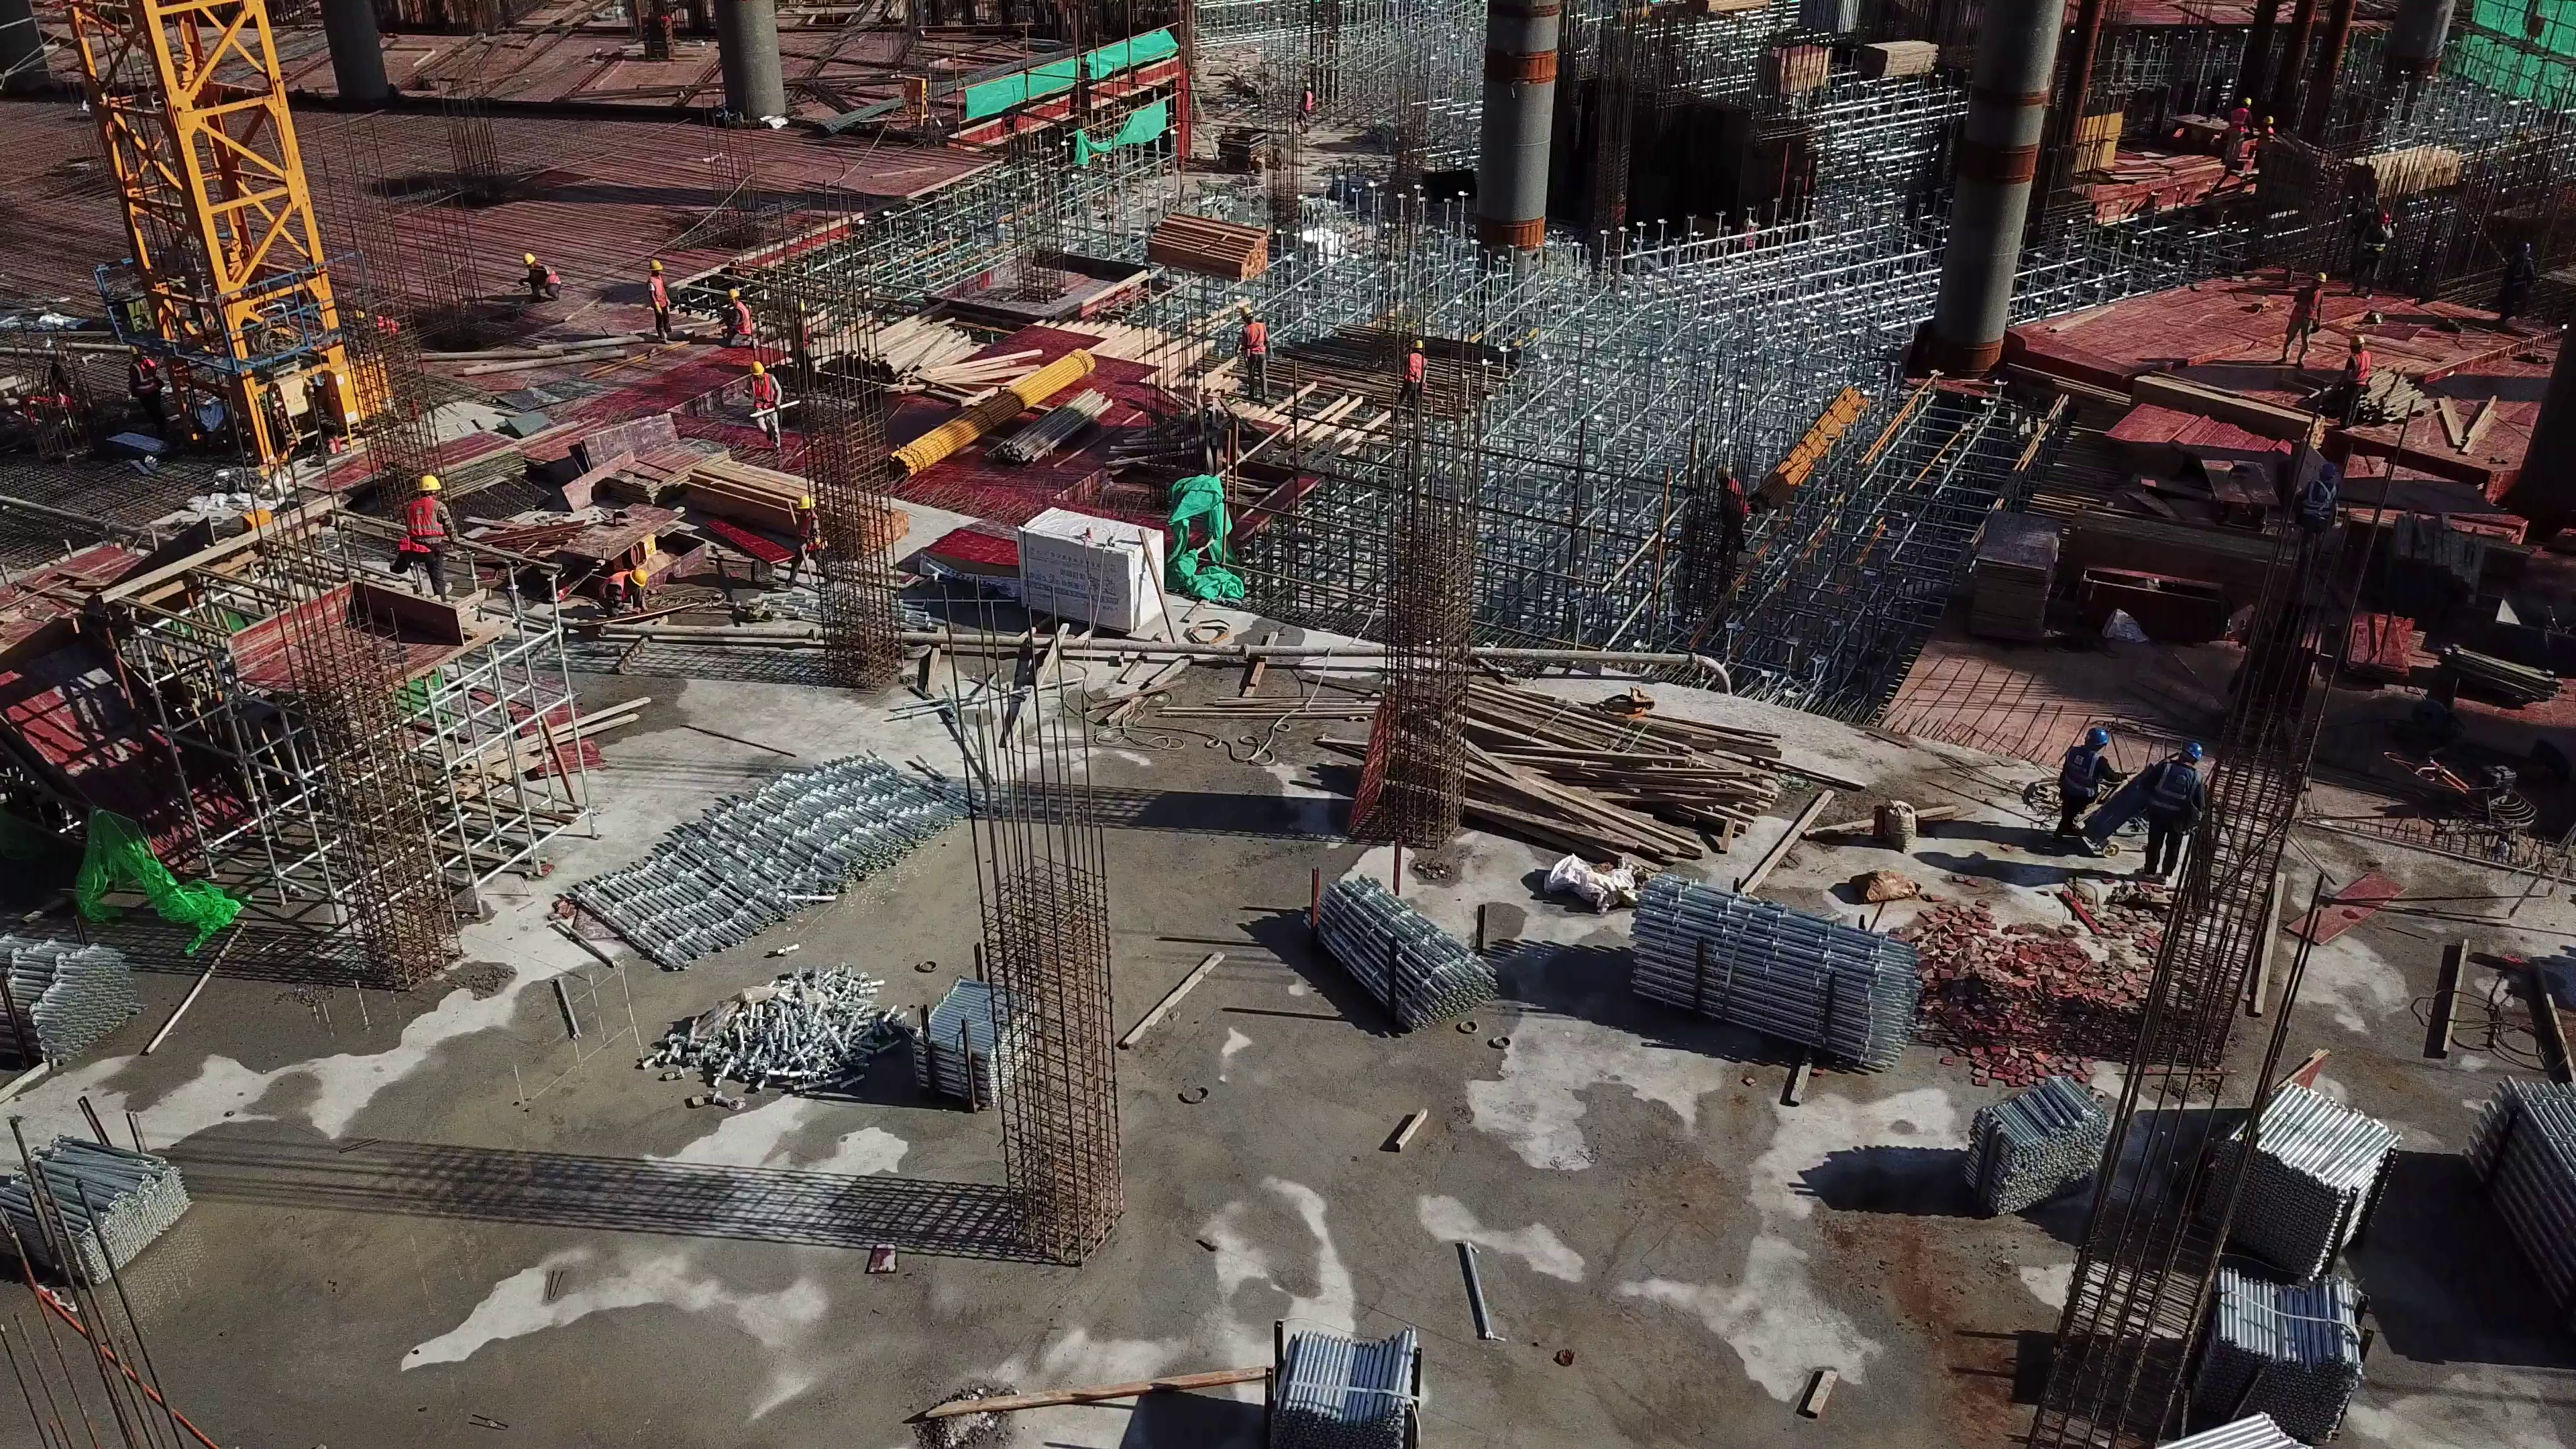helmet: (412, 472, 445, 497), (2081, 724, 2112, 749), (747, 357, 767, 382), (2182, 741, 2205, 761), (2308, 269, 2329, 288), (519, 252, 537, 267), (650, 256, 663, 276), (2352, 333, 2365, 349), (1238, 304, 1255, 319), (1413, 338, 1426, 352), (727, 288, 739, 299)
person: (2059, 726, 2131, 853), (2150, 736, 2204, 892), (402, 466, 460, 603), (2279, 262, 2323, 375), (743, 357, 786, 455), (1239, 302, 1278, 407), (641, 255, 680, 345), (2345, 330, 2371, 433), (121, 342, 160, 407), (517, 248, 561, 303), (1402, 331, 1428, 421), (725, 288, 753, 349)
vest: (405, 490, 447, 544), (1246, 324, 1266, 352)
